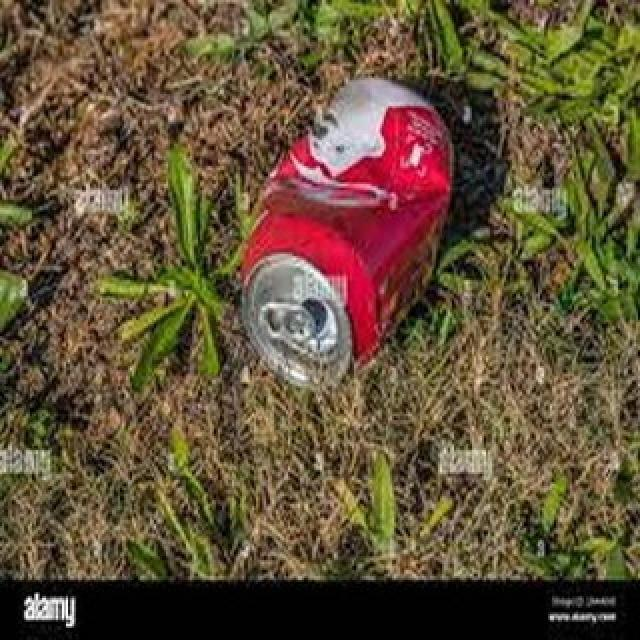metal-can: (239, 74, 455, 397)
